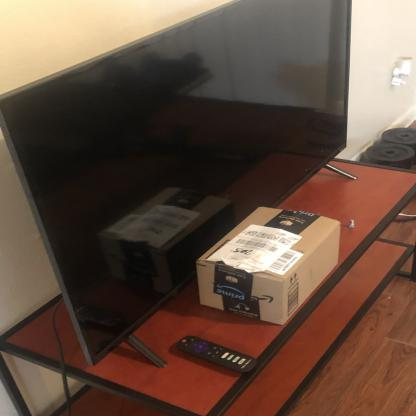package: (187, 201, 348, 331), (91, 181, 254, 300)
